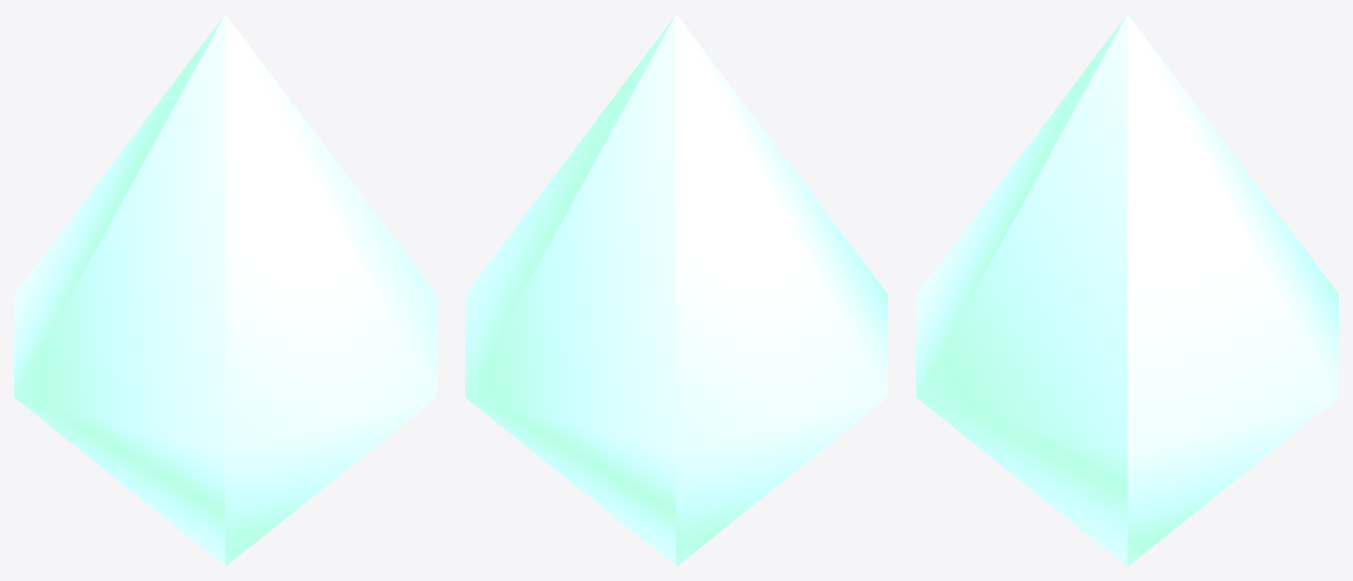
File: gem_on.glb
The picture shows the model from 3 angles, left to right: view 1: azimuth 30°, elevation 25°; view 2: azimuth 150°, elevation 25°; view 3: azimuth 270°, elevation 25°; orthographic projection.
Parts seen in each view (by area): view 1: gem; view 2: gem; view 3: gem.
Part boxes in pixels (<box>): gem: <box>14,14,436,566</box>; gem: <box>465,14,887,566</box>; gem: <box>916,14,1338,566</box>.
Bounding box in the file's own units: 0.24 × 0.3 × 0.2078.
